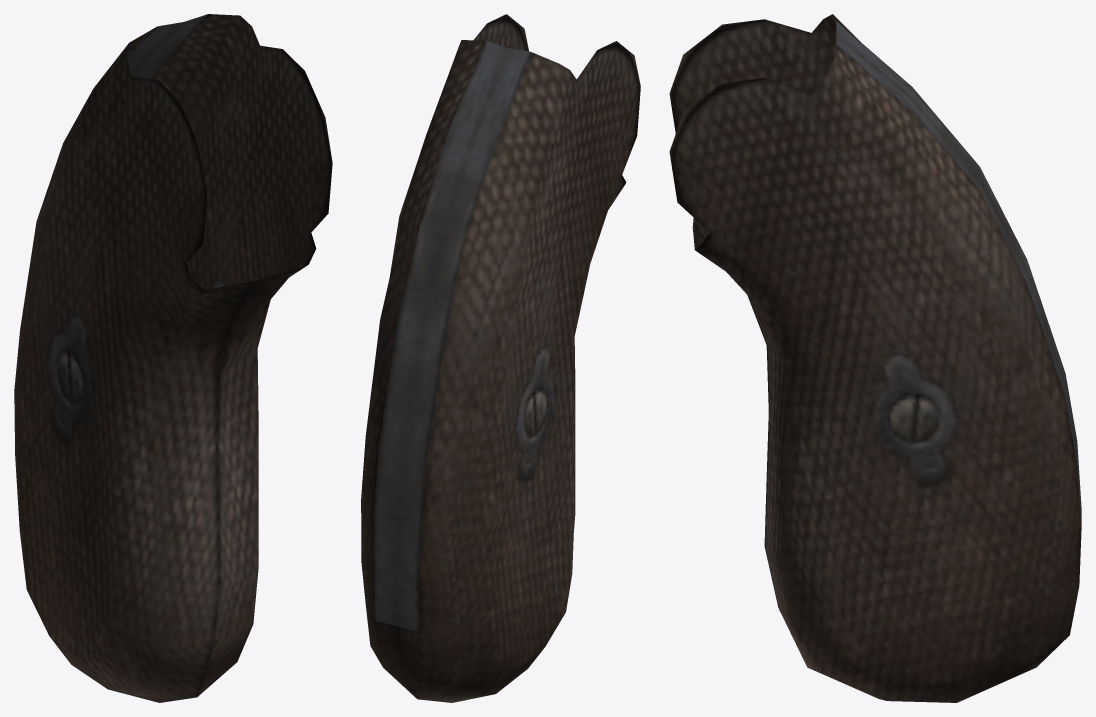
The model's file is butt.obj.
The picture shows the model from 3 angles, left to right: view 1: azimuth 30°, elevation 25°; view 2: azimuth 150°, elevation 25°; view 3: azimuth 270°, elevation 25°; orthographic projection. The views are drawn at different scales.
Visible parts, largest first — view 1: wpn34_ashot; view 2: wpn34_ashot; view 3: wpn34_ashot.
Part boxes in pixels (x1,y1,x2,y2): wpn34_ashot: (14,14,332,702); wpn34_ashot: (361,14,640,702); wpn34_ashot: (669,14,1081,702).
Size of the model in its own units: 0.0298 by 0.1393 by 0.078.
Materials: 1 (1 with a texture image).
